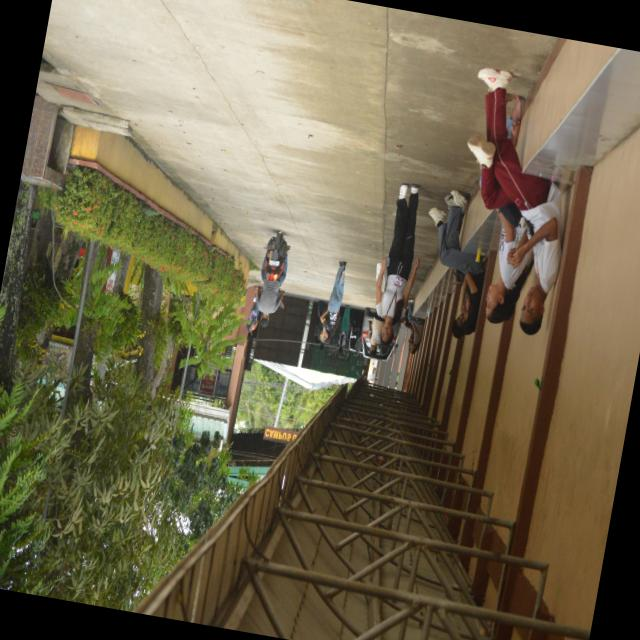person: (468, 67, 562, 333), (430, 190, 484, 333), (376, 183, 420, 344), (257, 253, 288, 326), (321, 260, 346, 343), (407, 299, 425, 353), (369, 312, 384, 355), (338, 305, 350, 353)
